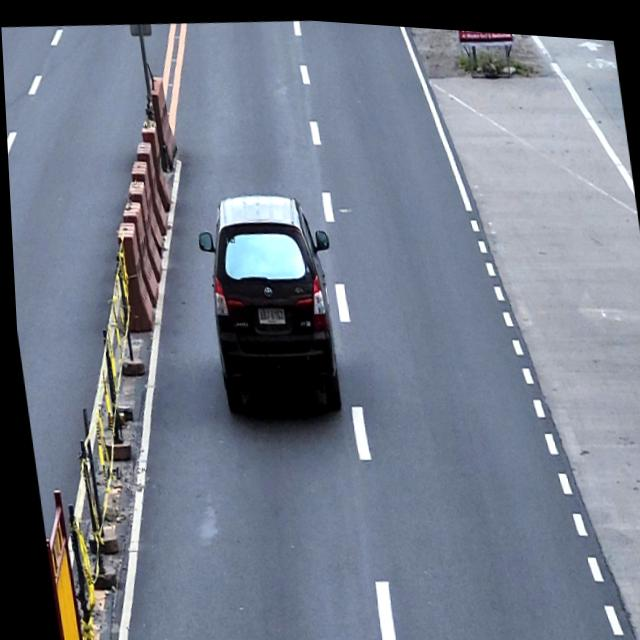Car: (189, 181, 348, 419)
License-Plate: (252, 299, 283, 324)
